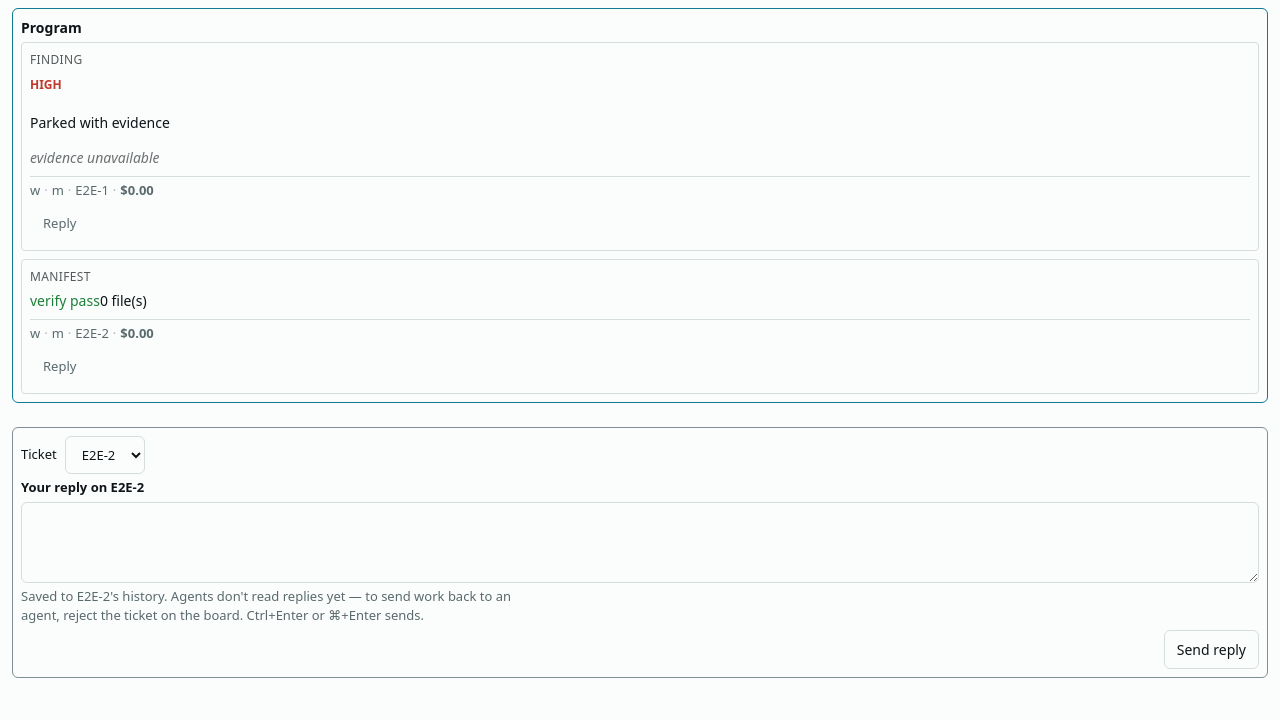
Scenario: ChatView replies › defaults the composer to the most recent card; Reply on a card retargets and focuses it
Expected: the dropdown with test id "chat-composer-ticket" shows "E2E-2", [65,436,145,474]
Click the button with aria-label "Reply on E2E-1" at (60, 223), box [30,204,89,242]
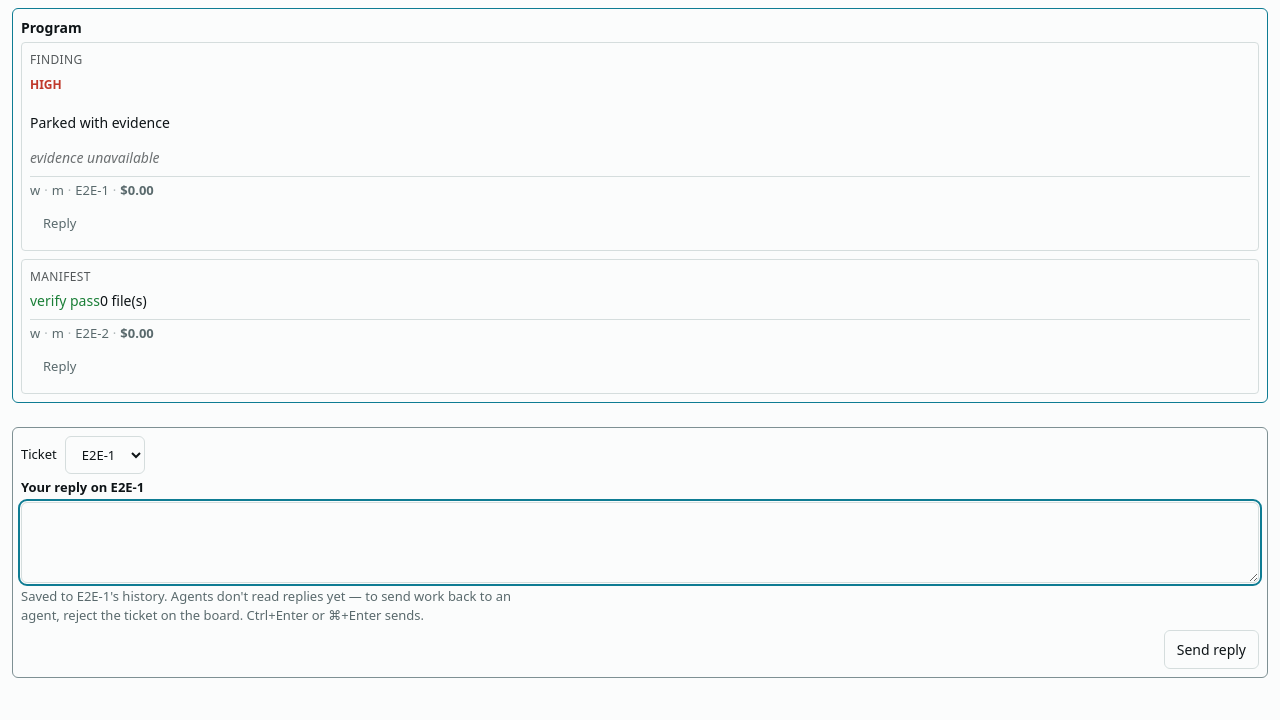
Expected: the dropdown with test id "chat-composer-ticket" shows "E2E-1", [65,436,145,474]
